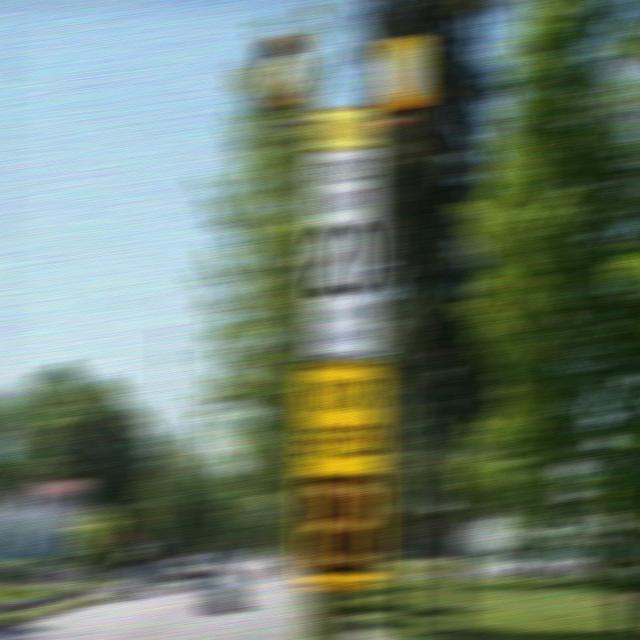speedLimit20: (301, 103, 383, 360)
